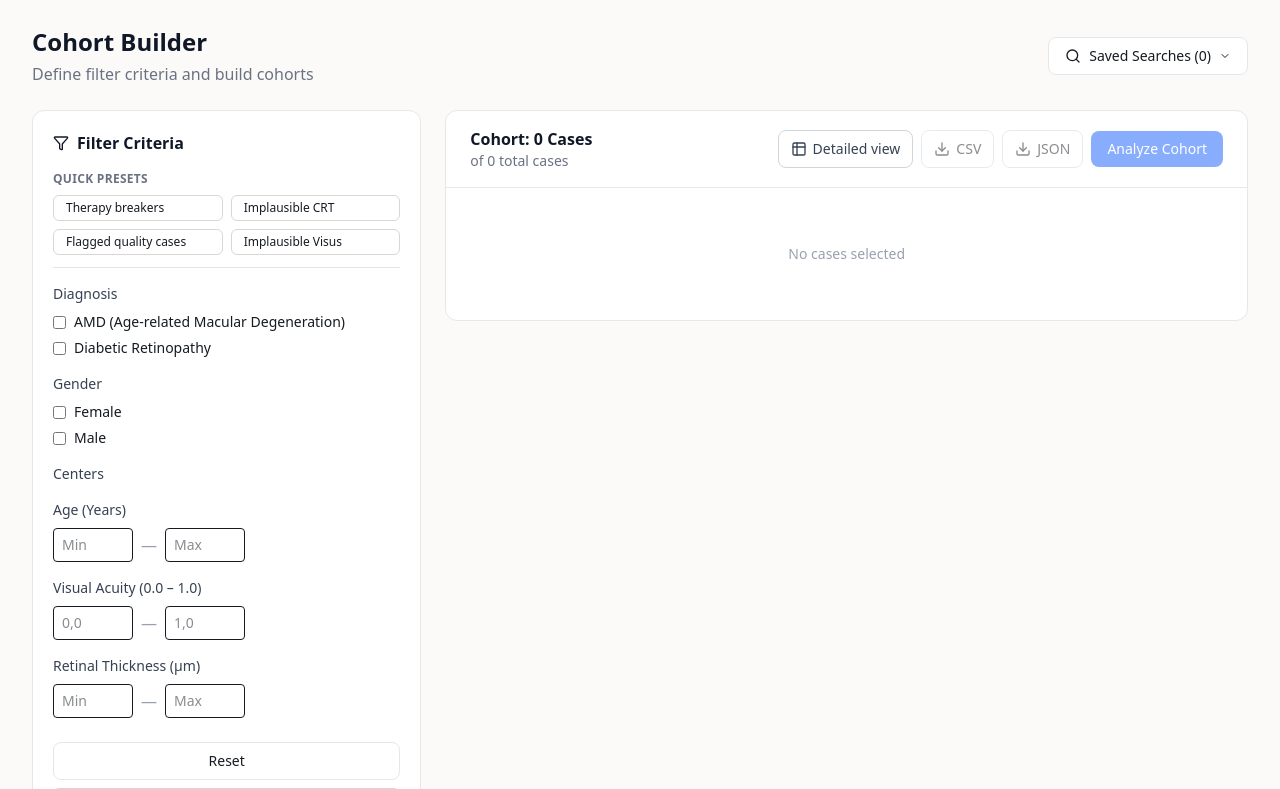
cohortValidation — COH-01 inline validation › age validation › age min above age max shows cohortValidationAgeLowerExceedsUpper error and disables Save
In the number field with placeholder "Min" below "Age (Years)": [93, 545] box [53,528,133,562], type "80"
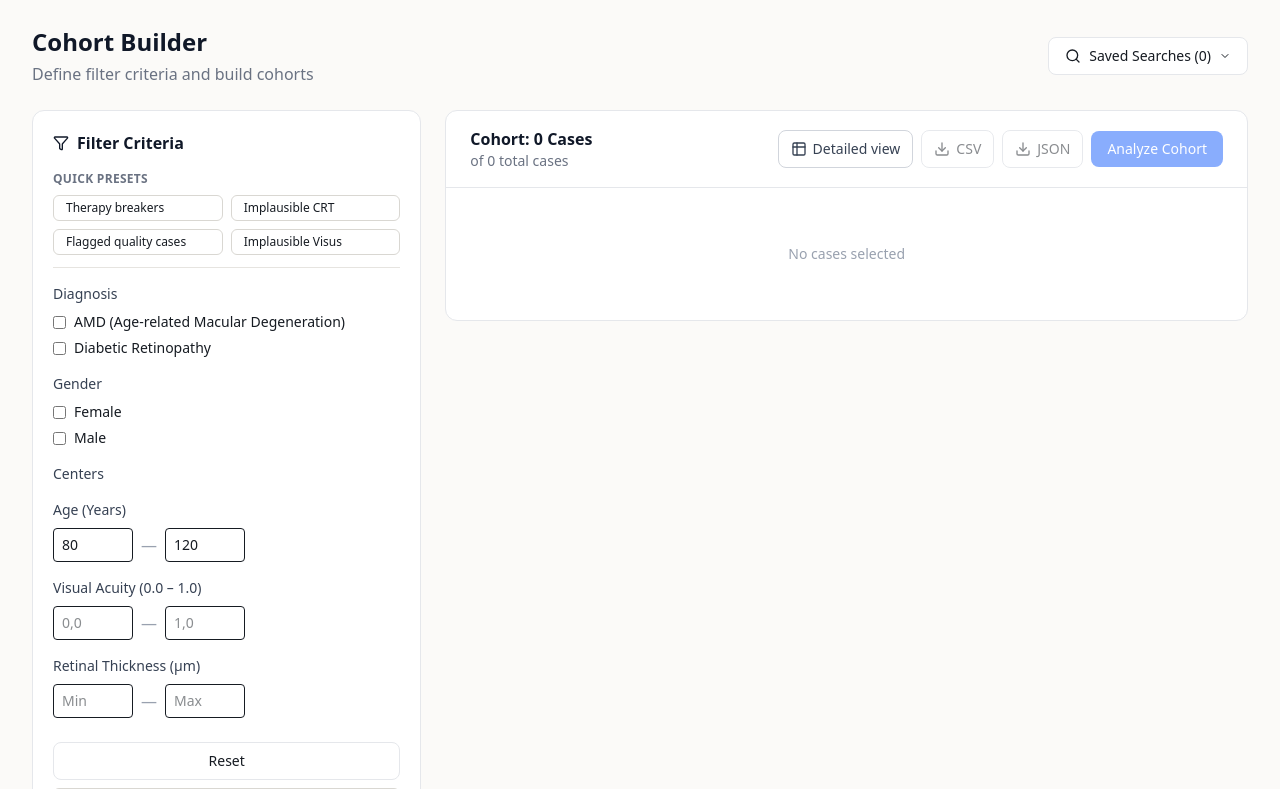
Replace the text in the 2nd number field with placeholder "Max" with "50": [205, 545] box [165,528,245,562]
(page scrolled)
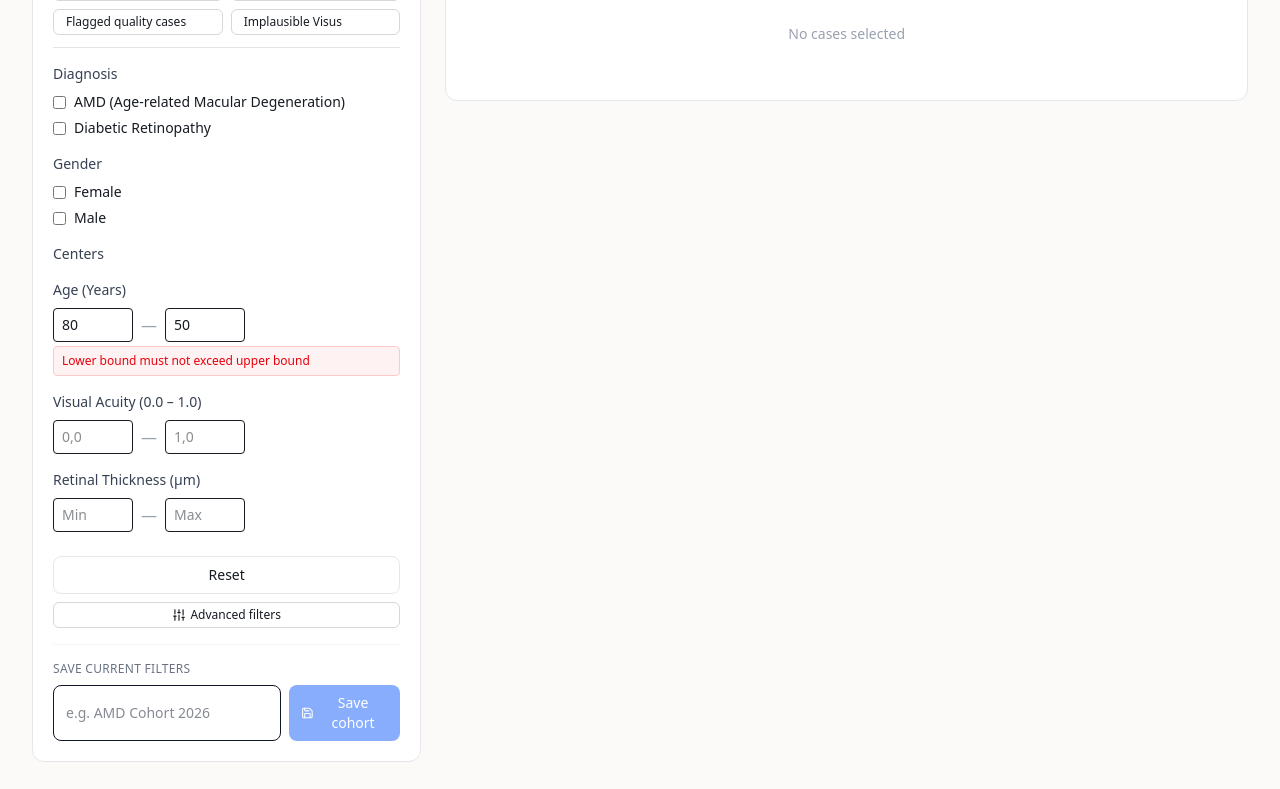
Expected: the button "Save cohort" is disabled, [289,685,400,741]
Now the message "Lower bound must not exceed upper bound" is shown, box [53,346,400,376]
